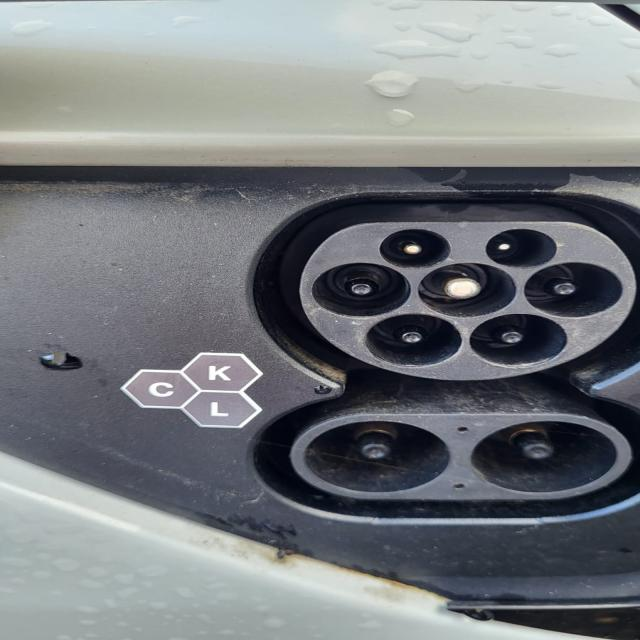inlet: (299, 222, 638, 380)
inlet-above-left: (379, 229, 451, 268)
inlet-above-right: (485, 229, 558, 268)
inlet-below-left: (363, 314, 463, 366)
inlet-below-right: (469, 314, 567, 366)
inlet-circle: (417, 262, 516, 317)
inlet-circle-left: (313, 262, 411, 317)
inlet-circle-right: (525, 262, 622, 317)
inlet-minus: (470, 421, 617, 492)
inlet-plus: (305, 420, 451, 492)
